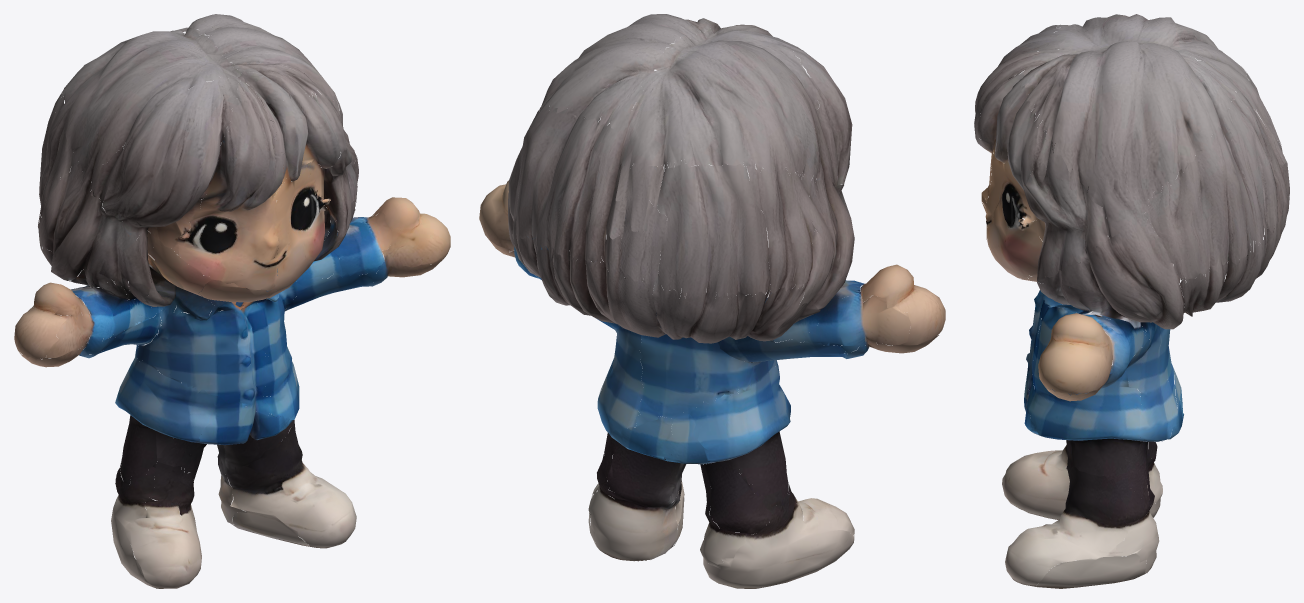
The model's file is vickie.glb.
3 views of the same model, side by side, from view 1: azimuth 30°, elevation 25°; view 2: azimuth 150°, elevation 25°; view 3: azimuth 270°, elevation 25° (orthographic). The views are drawn at different scales.
Parts seen in each view (by area): view 1: vickie; view 2: vickie; view 3: vickie.
Part boxes in pixels (box(x1,y1,x2,y2)): vickie: box(14, 14, 450, 588); vickie: box(479, 14, 945, 588); vickie: box(974, 14, 1289, 588).
Bounding box in the file's own units: 0.8941 × 0.9891 × 0.5566.
Materials: 1 (1 with a texture image).
